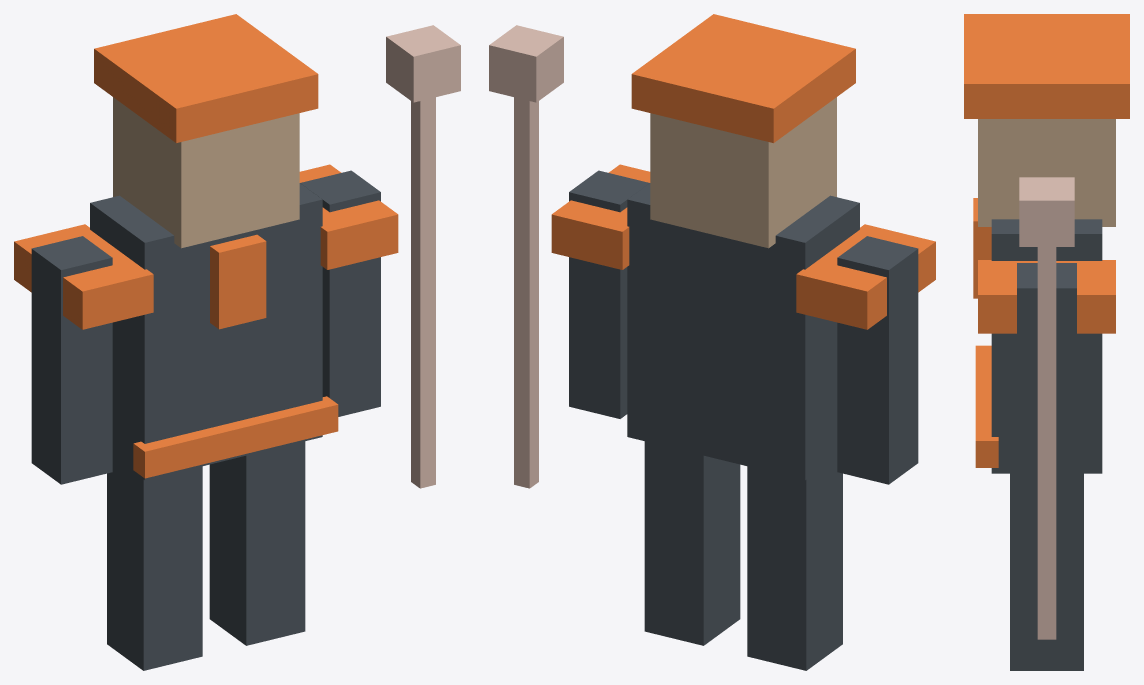
Rendered from 14_dax_glassroot_cartographer_near_elemental.glb.
The picture shows the model from 3 angles, left to right: view 1: azimuth 30°, elevation 25°; view 2: azimuth 150°, elevation 25°; view 3: azimuth 270°, elevation 25°; orthographic projection.
Visible parts, largest first — view 1: Dax Glassroot, Cartographer near Elemental; view 2: Dax Glassroot, Cartographer near Elemental; view 3: Dax Glassroot, Cartographer near Elemental.
Boxes of the visible parts, <box> form: Dax Glassroot, Cartographer near Elemental: <box>14,14,460,670</box>; Dax Glassroot, Cartographer near Elemental: <box>489,14,935,670</box>; Dax Glassroot, Cartographer near Elemental: <box>964,14,1129,670</box>.
Bounding box in the file's own units: 1.08 × 1.49 × 0.3848.
